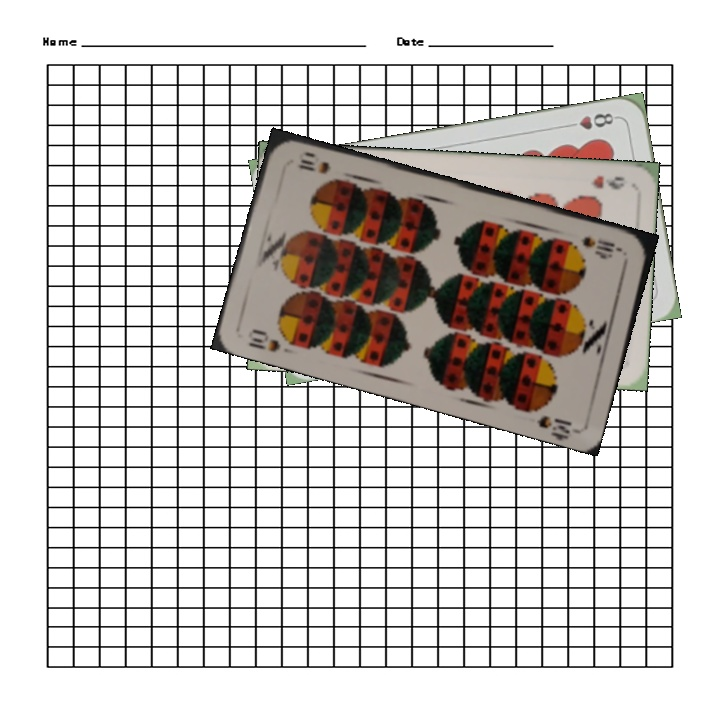H8: (562, 109, 620, 132)
H9: (588, 171, 627, 192)
S10: (577, 232, 625, 258), (244, 324, 283, 355)
